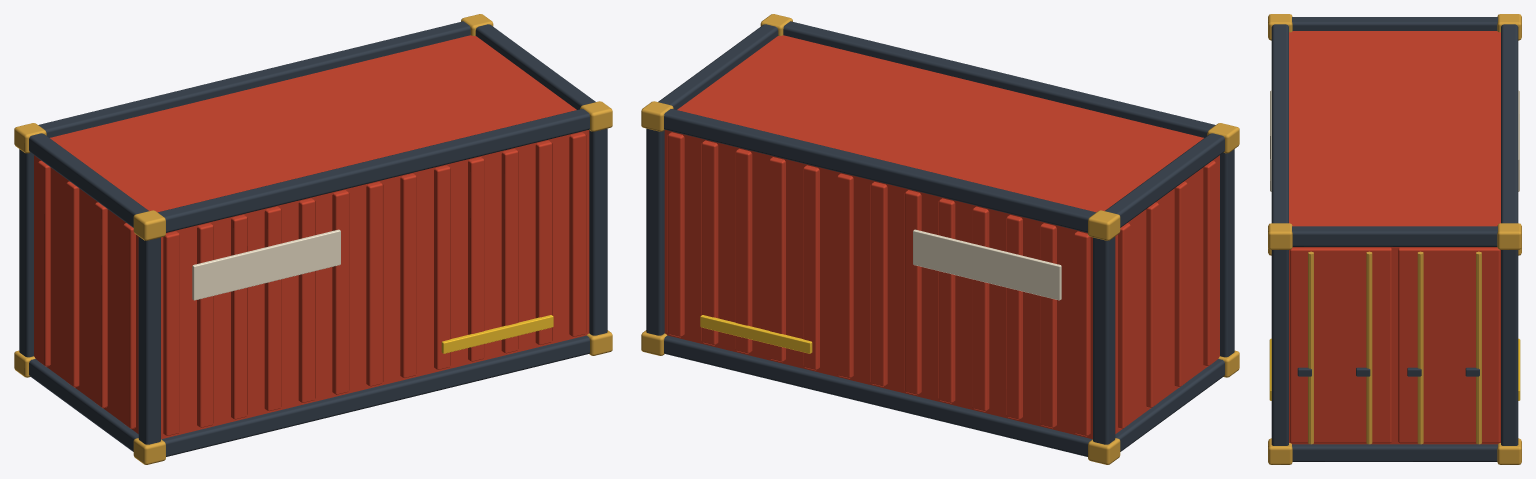
Rendered from cargo_container.glb.
3 renders of one model, left to right at view 1: azimuth 30°, elevation 25°; view 2: azimuth 150°, elevation 25°; view 3: azimuth 270°, elevation 25°, orthographic. The views are drawn at different scales.
Visible parts, largest first — view 1: cargo_container_body; view 2: cargo_container_body; view 3: cargo_container_body.
Boxes of the visible parts, x1,y1,x2,y2 form: cargo_container_body: [14, 14, 612, 464]; cargo_container_body: [641, 14, 1239, 464]; cargo_container_body: [1268, 14, 1521, 464].
Bounding box in the file's own units: 5.1 × 2.52 × 2.48.
